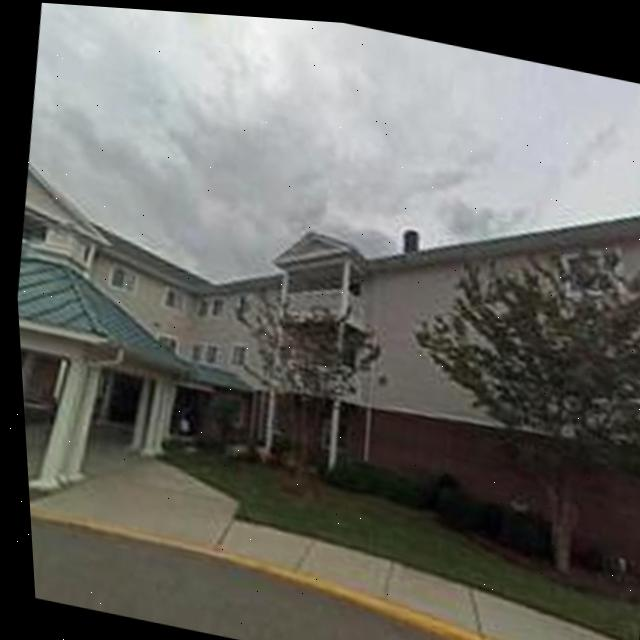building: (4, 72, 640, 606)
